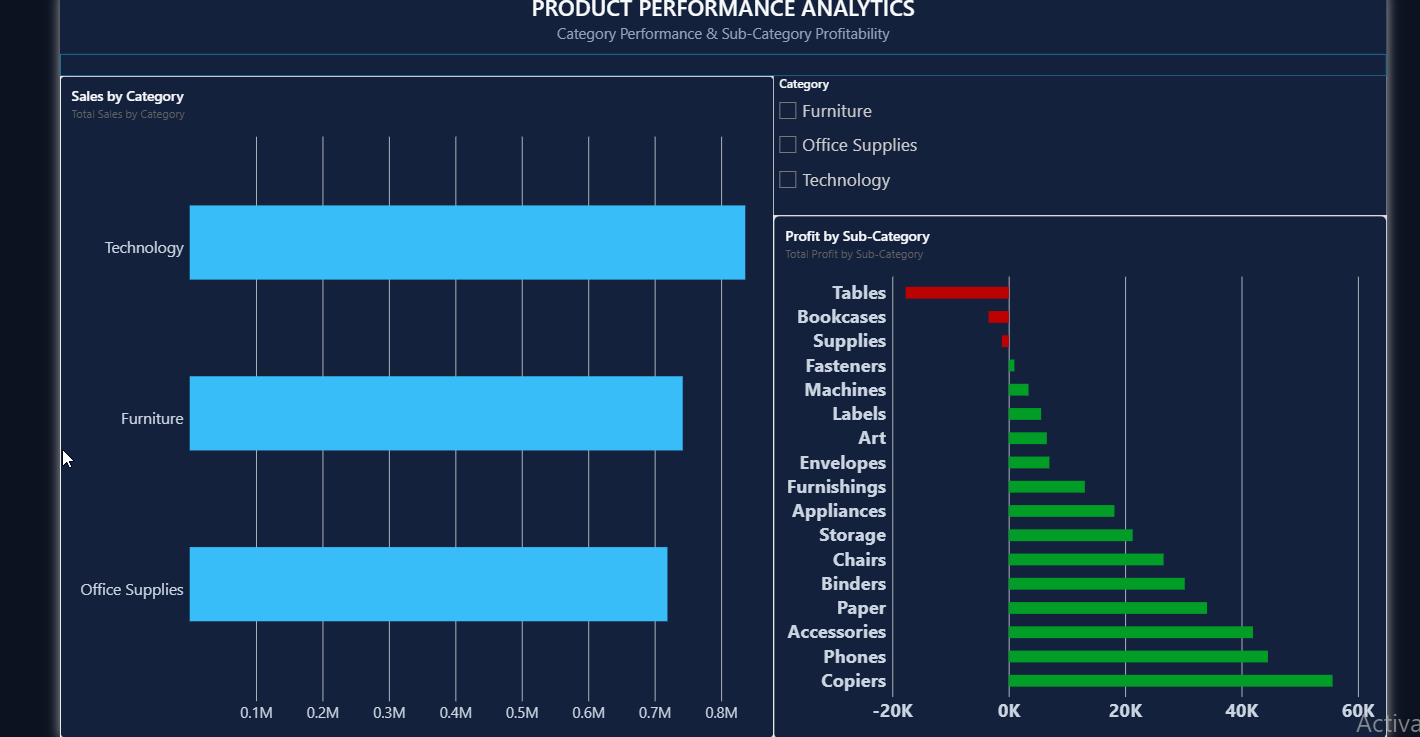

The dashboard page shown, as its layout file describes it:
{"tool":"powerbi","page":{"name":"Product Analysis","canvas":[1920,1080],"ordinal":2},"visuals":[{"type":"clusteredBarChart","title":"Sales by Category","fields":{"Category":["Sample - Superstore.Category"],"Y":["Sample - Superstore.Total Sales"]},"box":[0,121.4,1033.3,959.2],"z":0},{"type":"slicer","fields":{"Values":["Sample - Superstore.Category"]},"box":[1033.3,121.4,887.1,201.7],"z":1000},{"type":"clusteredBarChart","title":"Profit by Sub-Category","fields":{"Category":["Sample - Superstore.Sub-Category"],"Y":["Sample - Superstore.Total Profit"]},"box":[1033.3,323.2,887.1,757.5],"z":2000},{"type":"shape","title":"PRODUCT PERFORMANCE ANALYTICS","box":[0,0,1920.4,121.4],"z":2001}]}

Visuals, with their boxes on the page's 1920x1080 design canvas (x1, y1, x2, y2). These are canvas units, not pixel positions in the 1420x737 screenshot, which may show the page scaled, cropped or inside an application window:
"Sales by Category" clusteredBarChart: BBox(0, 121, 1033, 1081)
slicer - Sample - Superstore.Category: BBox(1033, 121, 1920, 323)
"Profit by Sub-Category" clusteredBarChart: BBox(1033, 323, 1920, 1081)
"PRODUCT PERFORMANCE ANALYTICS" shape: BBox(0, 0, 1920, 121)
